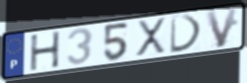3: (66, 26, 96, 68)
5: (102, 19, 130, 63)
D: (169, 14, 205, 55)
H: (29, 30, 62, 73)
V: (204, 6, 240, 50)
X: (134, 16, 167, 58)
